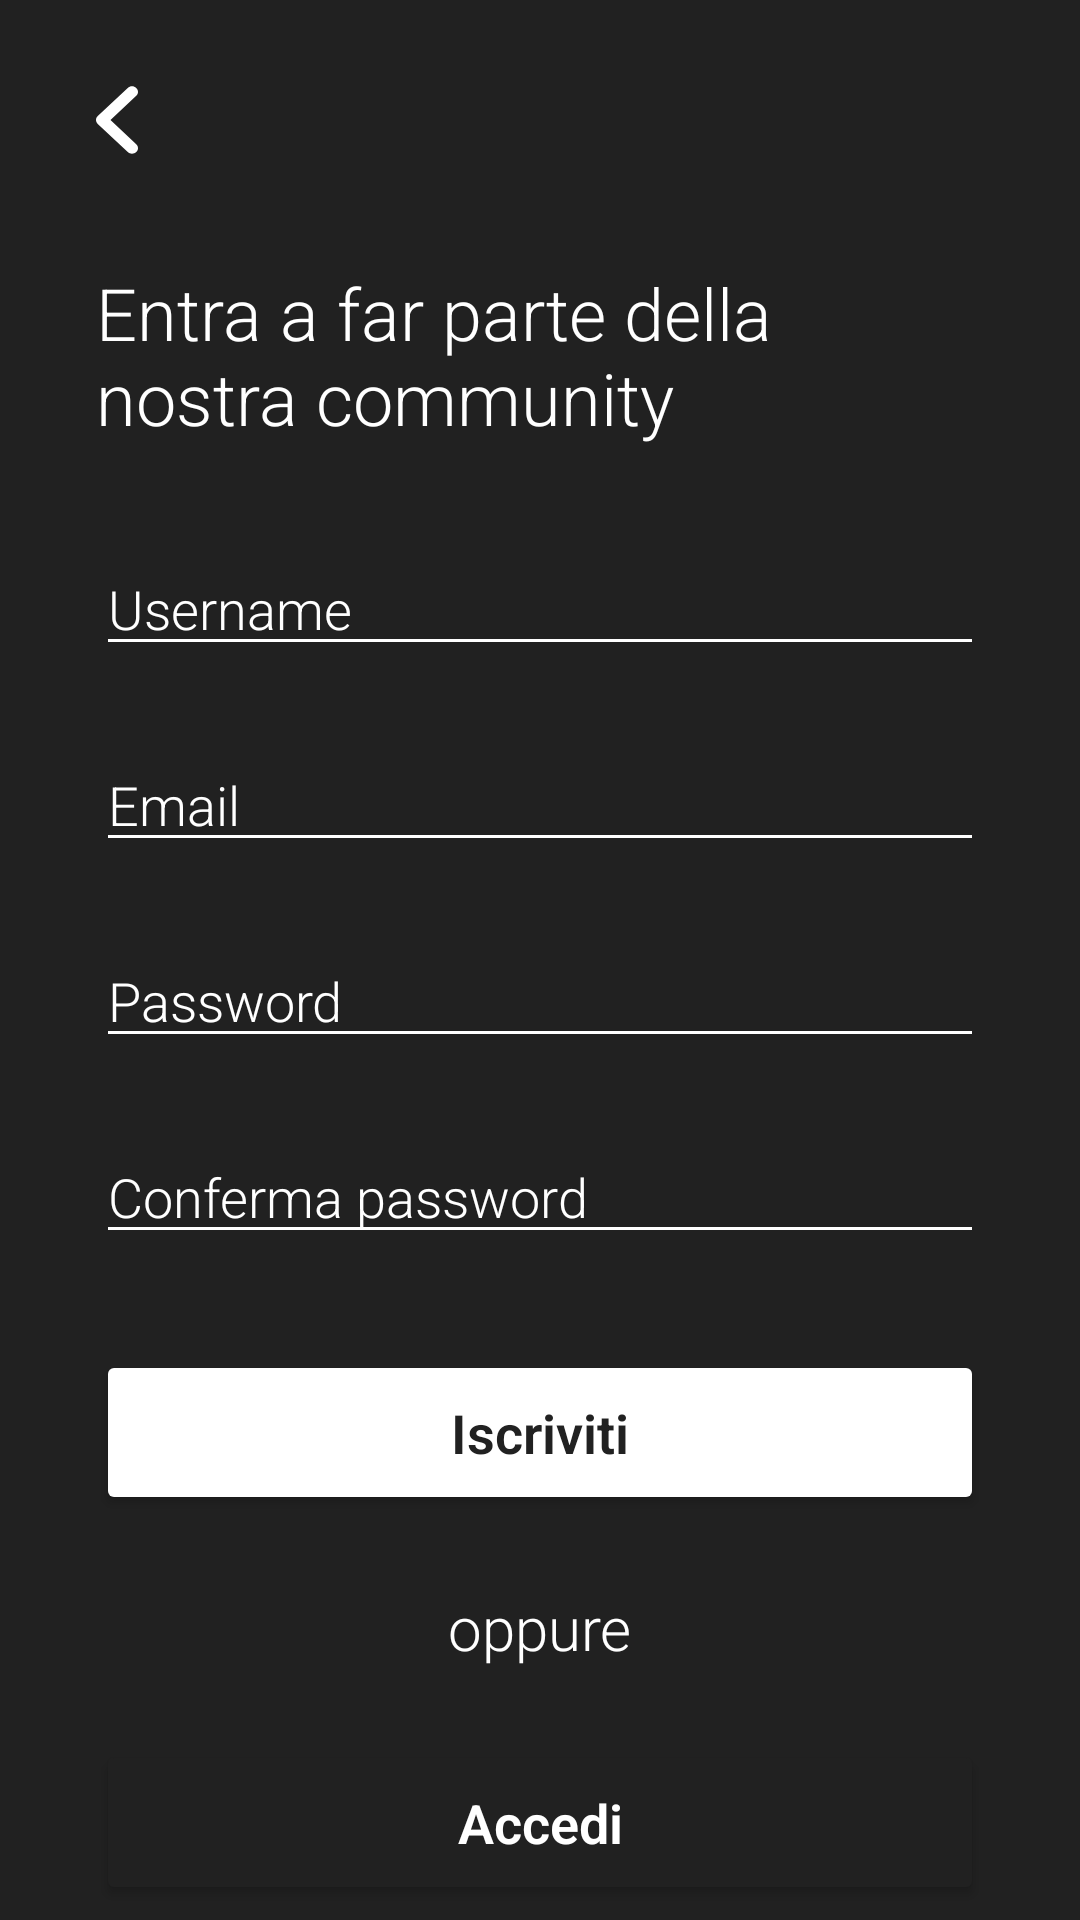

Locate icon controls on the screen. Image size 1080*1920, boxes as (x1, y1, x2, y2).
angle left: (96, 86, 138, 154)
